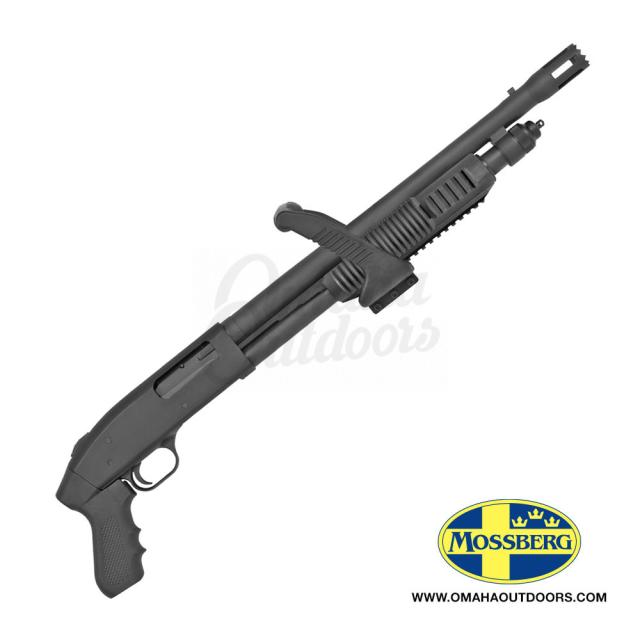ShotGun: (56, 45, 591, 600)
